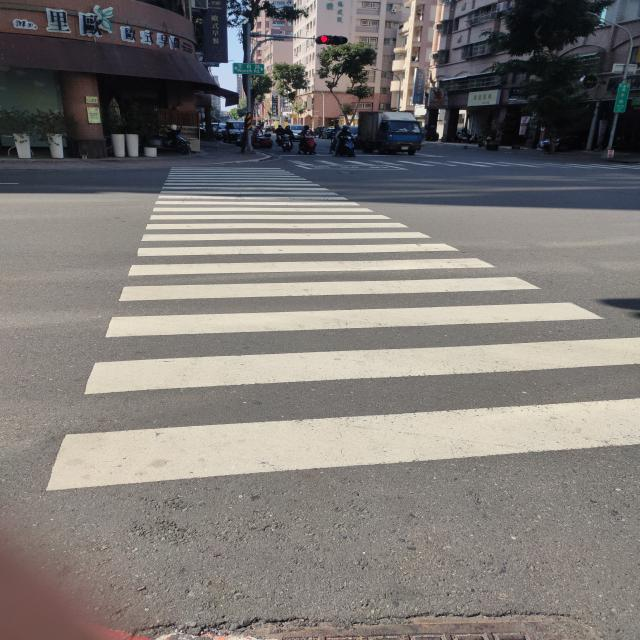zebra_crossing: (462, 84, 640, 244), (202, 87, 375, 251)
